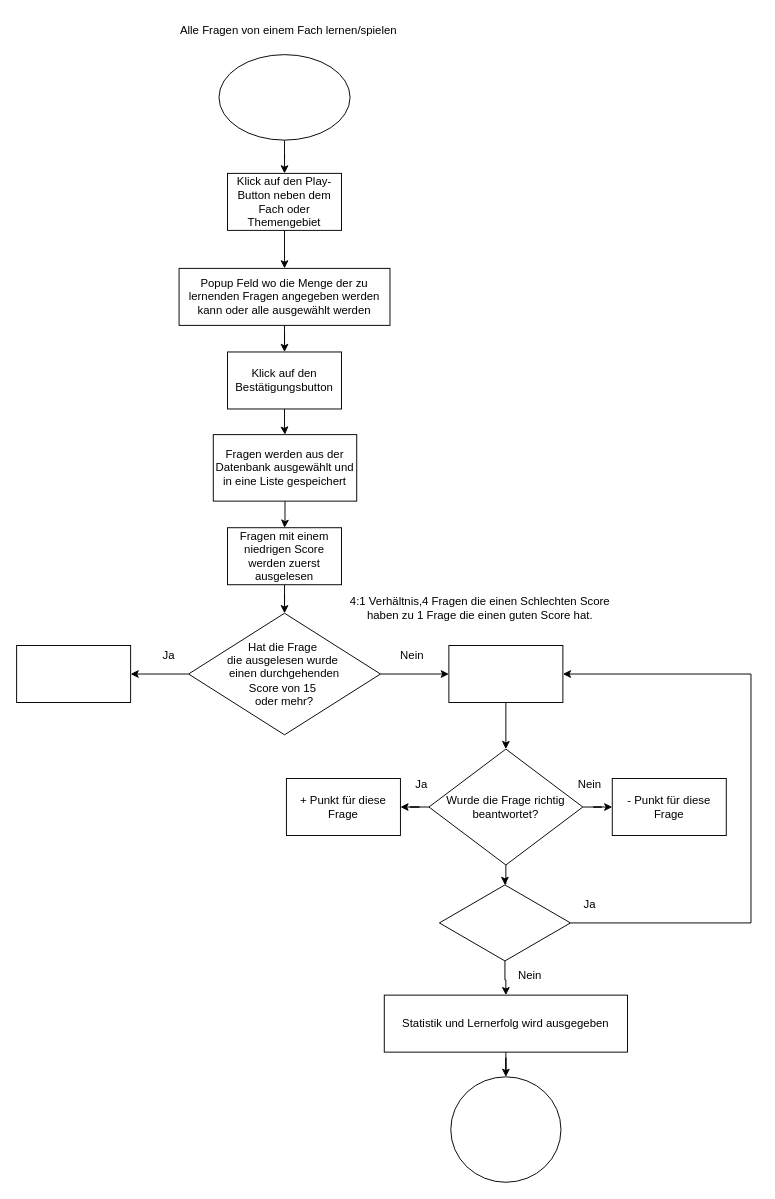
This 775x1199 diagram has some shape labels left out. The box of each missing label's shape, as (x1, y1, x2, y2) in pixels:
Frage wird ausgelesen und dargestellt: (448, 645, 563, 703)
Frage wird nach hinten gereiht und später ausgegeben: (16, 645, 131, 703)
Klick auf den Lernen- Button auf der Navbar: (218, 54, 350, 140)
Weitere Frage vorhanden?: (438, 884, 570, 961)
Zurück zum vorherigen Screen: (450, 1076, 561, 1182)
